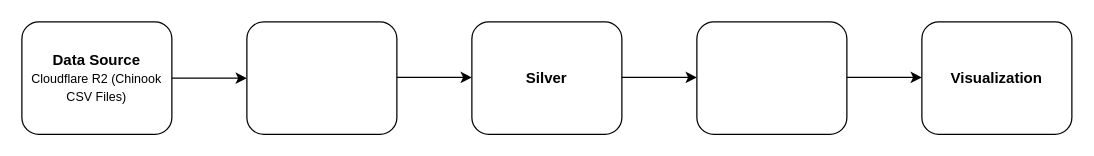
Image size: 1094x156. Some labels were removed from this diagram. The box of each missing label's shape, as (x1, y1, x2, y2) in pixels:
Bronze: (246, 21, 397, 134)
Gold: (696, 21, 847, 134)
